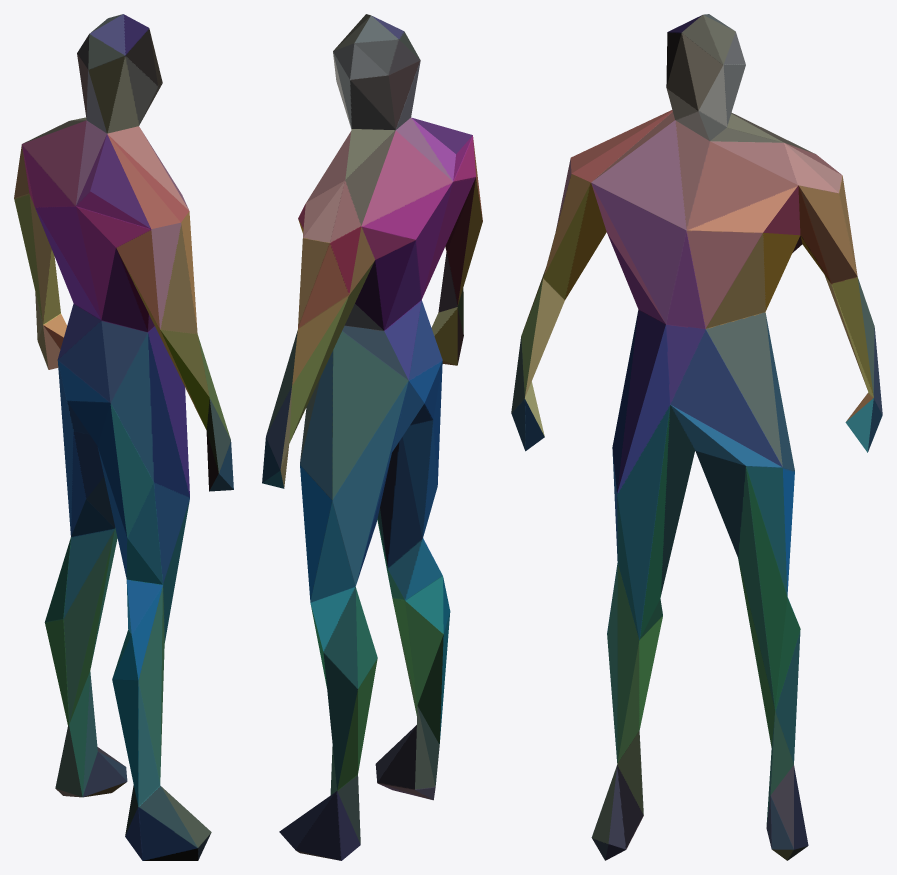
File: Survivor.glb
The picture shows the model from 3 angles, left to right: view 1: azimuth 30°, elevation 25°; view 2: azimuth 150°, elevation 25°; view 3: azimuth 270°, elevation 25°; orthographic projection. The views are drawn at different scales.
Size of the model in its own units: 0.1806 by 1.2 by 0.4863.
1 material, 1 textured.
